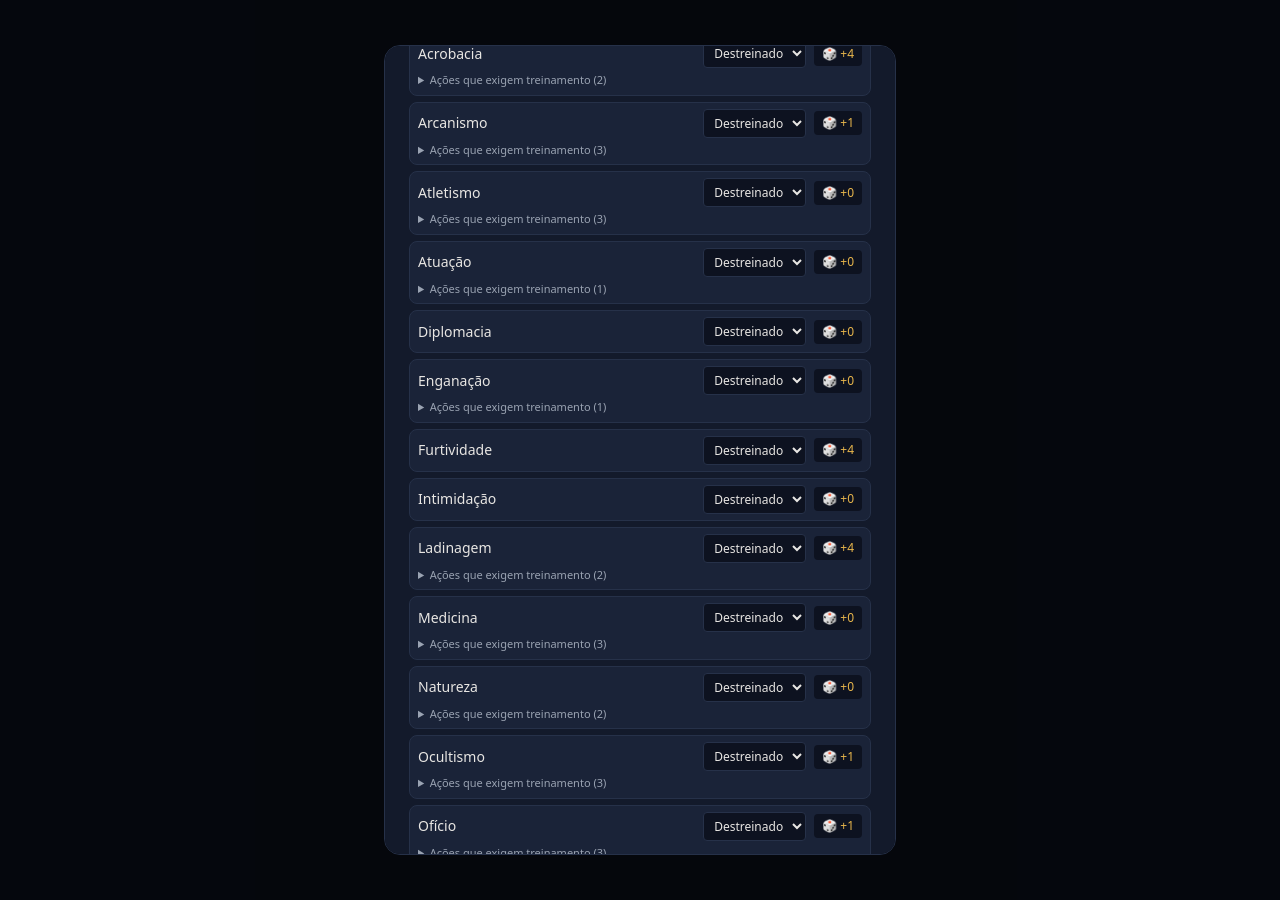
it: perícias de PF2e na ficha (RV-153) › trocar o grau recalcula antes de salvar, e o nível 20 destreinado continua valendo o modificador
The width and height of the screenshot is (1280, 900).
(page scrolled)
Expected: the button named "Rolar Furtividade (1d20+4)" is shown, top-left (814, 438), bottom-right (862, 462)
Select "Lendário" in the dropdown labelled "Furtividade". click: point(755, 450)
box: top-left (703, 436), bottom-right (806, 464)
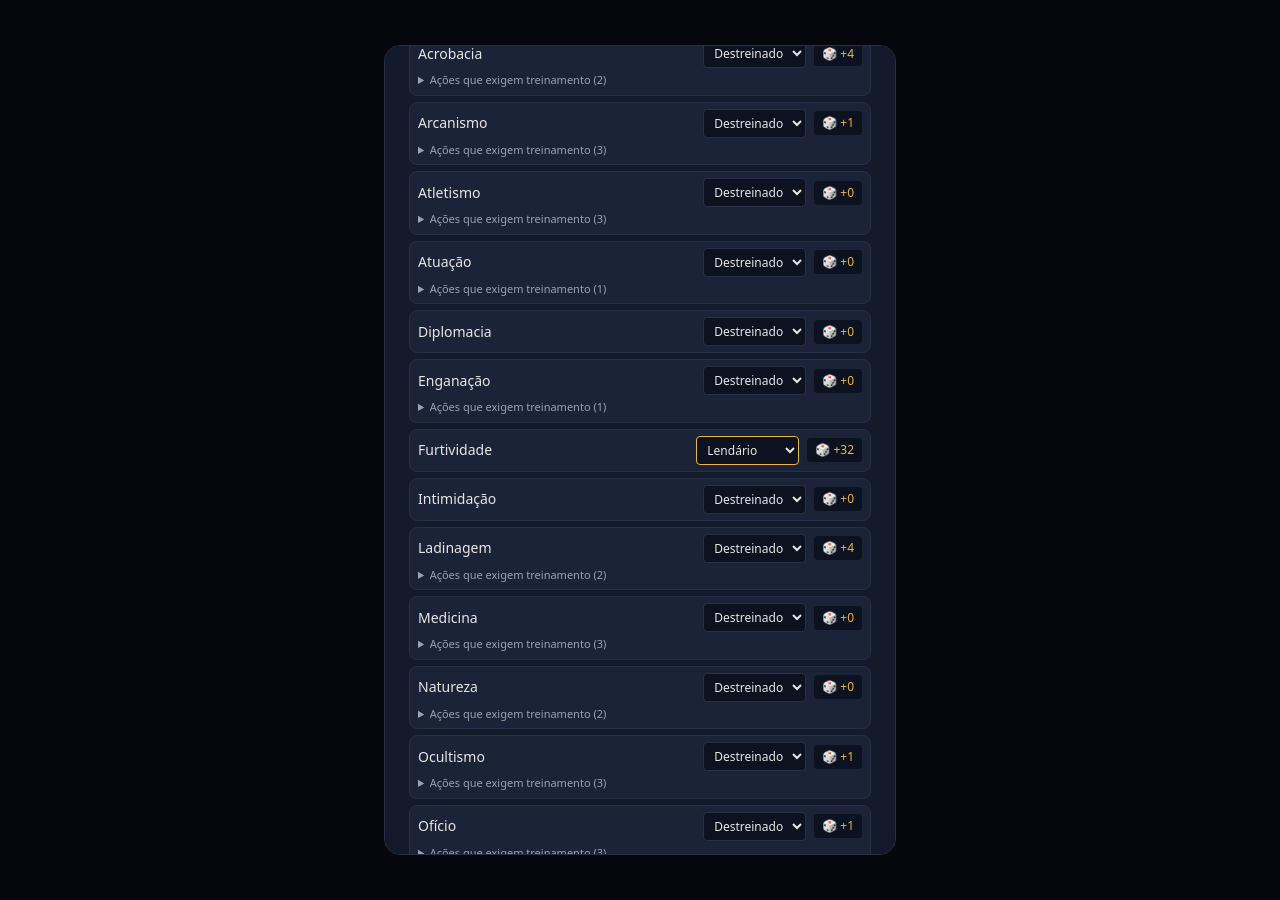
Now the button named "Rolar Furtividade (1d20+32)" is shown, box top-left (807, 438), bottom-right (862, 462)
